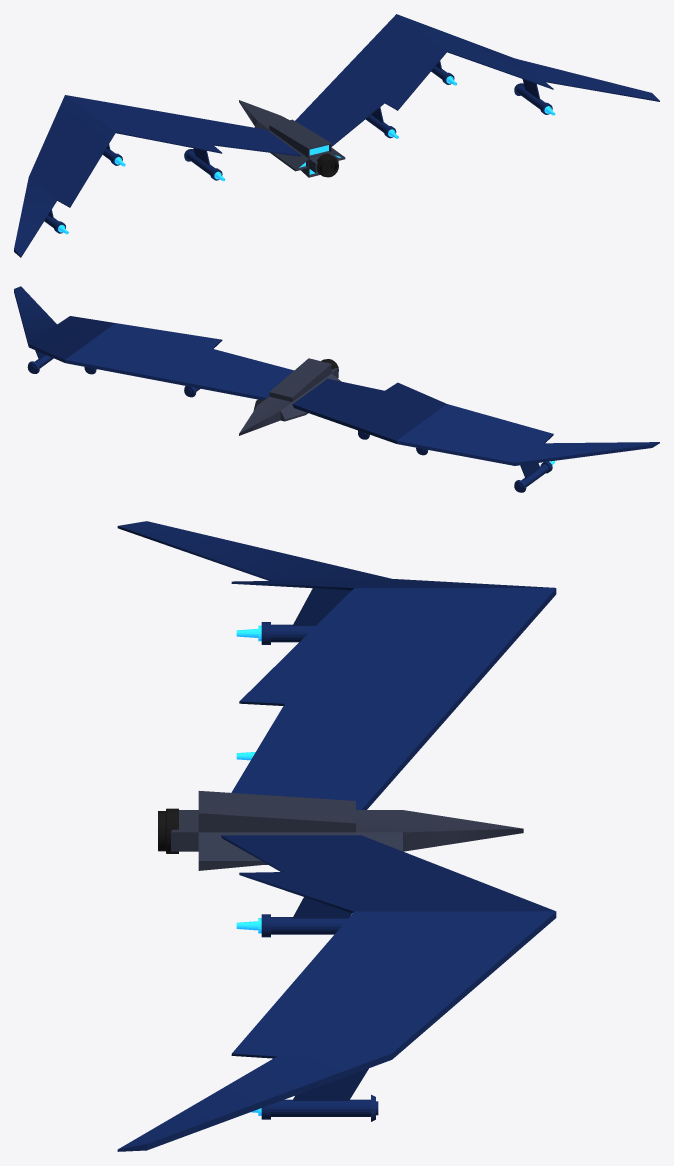
File: Boss09.FBX
3 views of the same model, one above another, from view 1: azimuth 30°, elevation 25°; view 2: azimuth 150°, elevation 25°; view 3: azimuth 270°, elevation 25° (orthographic). The views are drawn at different scales.
Parts seen in each view (by area): view 1: Box003, Box002, Box001, Cylinder004, Cylinder006, Cylinder001, Cylinder003; view 2: Box003, Box002, Box001, Cylinder007; view 3: Box002, Box003, Box001, Cylinder004, Cylinder003, Cylinder007.
Part boxes in pixels (left/top/right/bottom): Box003: left=14, top=95, right=301, bottom=257; Box002: left=295, top=14, right=659, bottom=146; Box001: left=239, top=100, right=345, bottom=177; Cylinder004: left=514, top=79, right=555, bottom=115; Cylinder006: left=184, top=148, right=225, bottom=181; Cylinder001: left=317, top=153, right=338, bottom=177; Cylinder003: left=365, top=107, right=398, bottom=138; Box003: left=292, top=378, right=659, bottom=465; Box002: left=14, top=286, right=293, bottom=400; Box001: left=239, top=358, right=341, bottom=435; Cylinder007: left=514, top=461, right=555, bottom=492; Box002: left=117, top=835, right=556, bottom=1151; Box003: left=117, top=521, right=556, bottom=809; Box001: left=171, top=791, right=523, bottom=870; Cylinder004: left=251, top=1068, right=378, bottom=1121; Cylinder003: left=236, top=897, right=351, bottom=937; Cylinder007: left=236, top=588, right=351, bottom=644.
Size of the model in its own units: 696 by 69.49 by 207.
